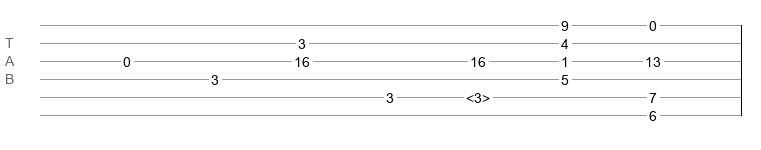0: (123, 54, 131, 64), (649, 18, 657, 28)
1: (561, 54, 569, 64)
13: (645, 54, 661, 64)
16: (294, 54, 310, 64), (470, 54, 486, 64)
3: (211, 72, 219, 82), (298, 36, 306, 46), (386, 90, 394, 100)
4: (561, 36, 569, 46)
5: (561, 72, 569, 82)
6: (649, 108, 657, 118)
7: (649, 90, 657, 100)
9: (561, 18, 569, 28)
harmonic: (466, 90, 490, 100)
